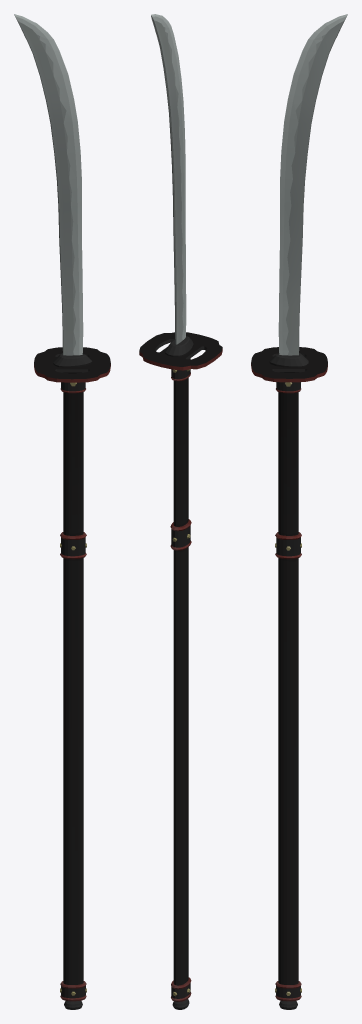
The model's file is pokeHeavyNaginata.glb.
3 renders of one model, left to right at view 1: azimuth 90°, elevation 25°; view 2: azimuth 150°, elevation 25°; view 3: azimuth 270°, elevation 25°, orthographic. The views are drawn at different scales.
Visible parts, largest first — view 1: pokeHeavyNaginata; view 2: pokeHeavyNaginata; view 3: pokeHeavyNaginata.
Part boxes in pixels (left/top/right/bottom): pokeHeavyNaginata: left=14, top=14, right=110, bottom=1009; pokeHeavyNaginata: left=139, top=14, right=222, bottom=1009; pokeHeavyNaginata: left=251, top=14, right=347, bottom=1009.
Size of the model in its own units: 0.1853 by 2.68 by 0.2363.
